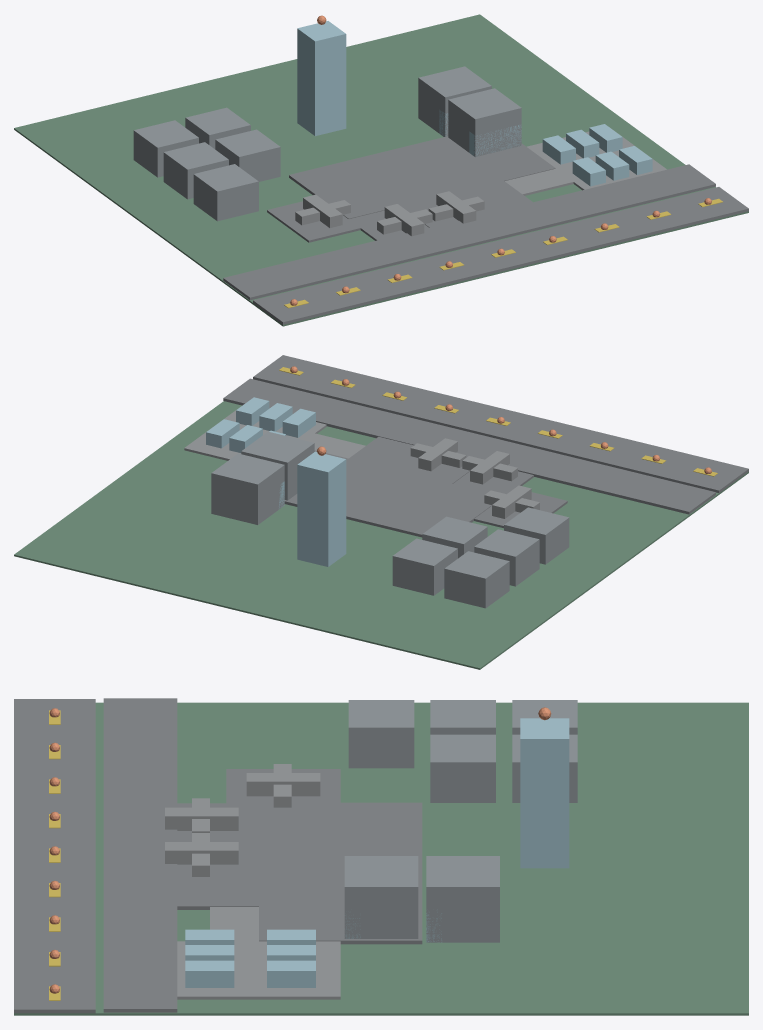
Rendered from stage_19.glb.
3 views of the same model, one above another, from view 1: azimuth 30°, elevation 25°; view 2: azimuth 150°, elevation 25°; view 3: azimuth 270°, elevation 25° (orthographic). The views are drawn at different scales.
Visible parts, largest first — view 1: geometry_0; view 2: geometry_0; view 3: geometry_0.
Boxes of the visible parts, bbox=[...] form: geometry_0: bbox=[14, 14, 748, 326]; geometry_0: bbox=[14, 355, 748, 669]; geometry_0: bbox=[14, 698, 748, 1015].
Bounding box in the file's own units: 9 × 2.06 × 9.
